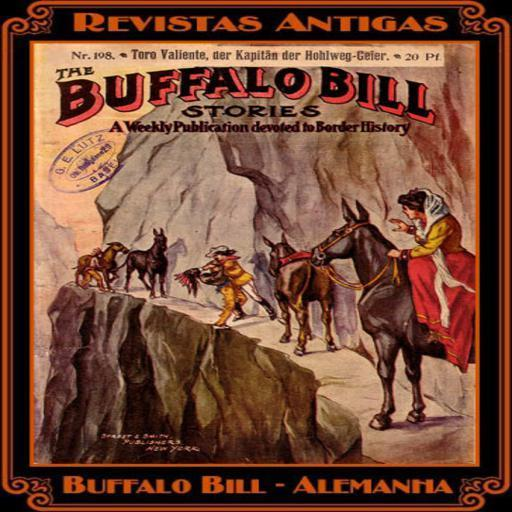horse: (307, 199, 484, 430), (262, 236, 342, 356), (122, 226, 168, 299), (73, 242, 130, 292)
